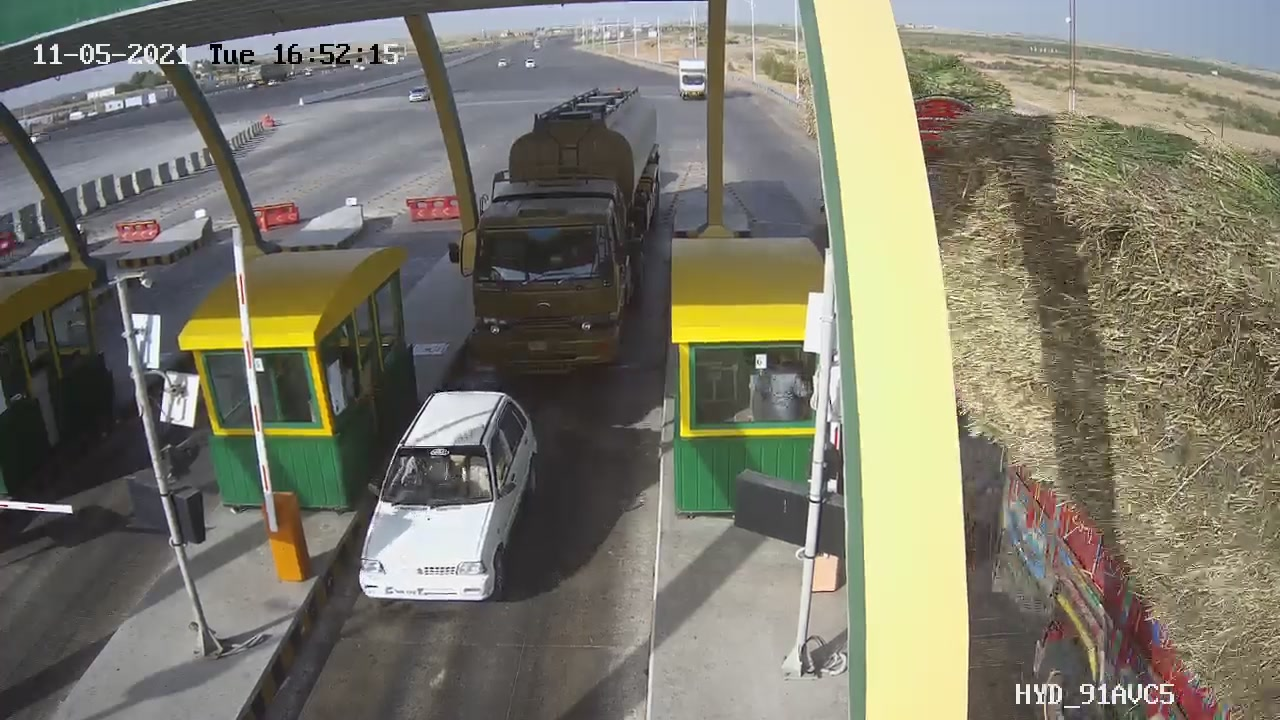F1: (342, 377, 559, 620)
F6: (468, 81, 677, 383)
